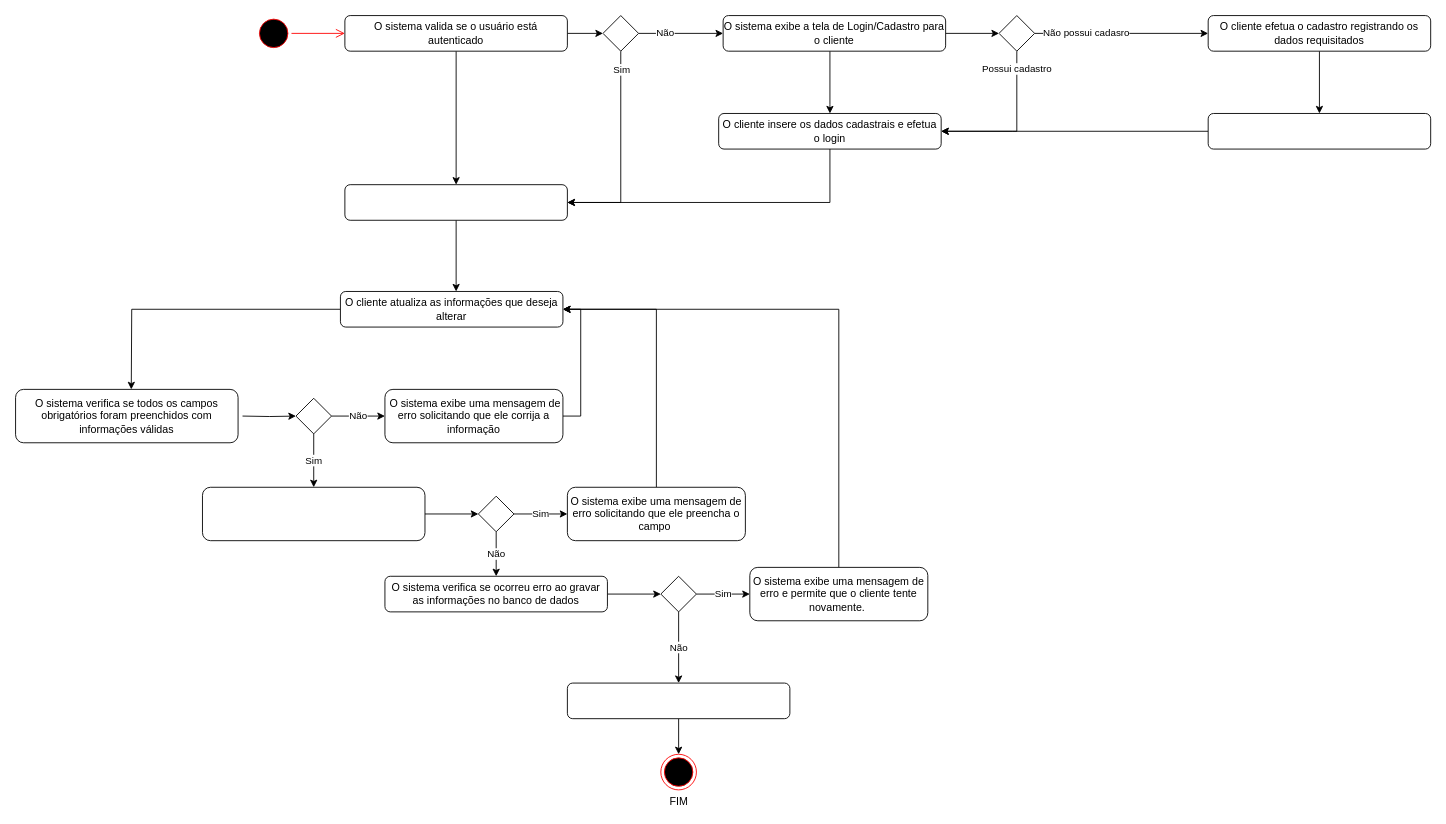
This 1446x824 diagram has some shape labels left out. Each missing label, with the centre of its shape:
Após o sistema concluir o cadastro, é exibido a tela de login: the point at 1319,131
INÍCIO: the point at 273,33
O sistema exibe as informações cadastradas previamente pelo cliente: the point at 455,202
O sistema exibe uma mensagem de confirmação de atualização dos dados: the point at 678,700
O sistema verifica se há algum campo obrigatório vazio: the point at 313,513
